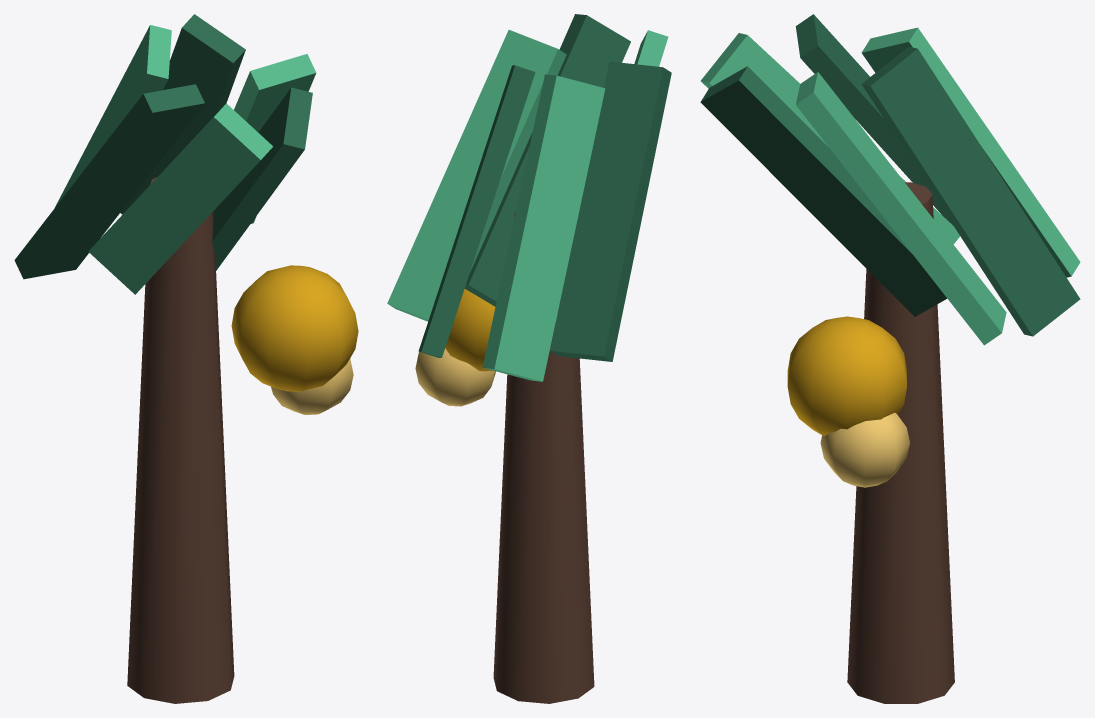
Rendered from banana_tree.glb.
The picture shows the model from 3 angles, left to right: view 1: azimuth 30°, elevation 25°; view 2: azimuth 150°, elevation 25°; view 3: azimuth 270°, elevation 25°; orthographic projection. The views are drawn at different scales.
Parts seen in each view (by area): view 1: banana_tree; view 2: banana_tree; view 3: banana_tree.
Part boxes in pixels (x1,y1,x2,y2): banana_tree: (14, 14, 358, 703); banana_tree: (387, 14, 671, 703); banana_tree: (700, 14, 1080, 703).
Bounding box in the file's own units: 0.6714 × 1.59 × 0.8481.
